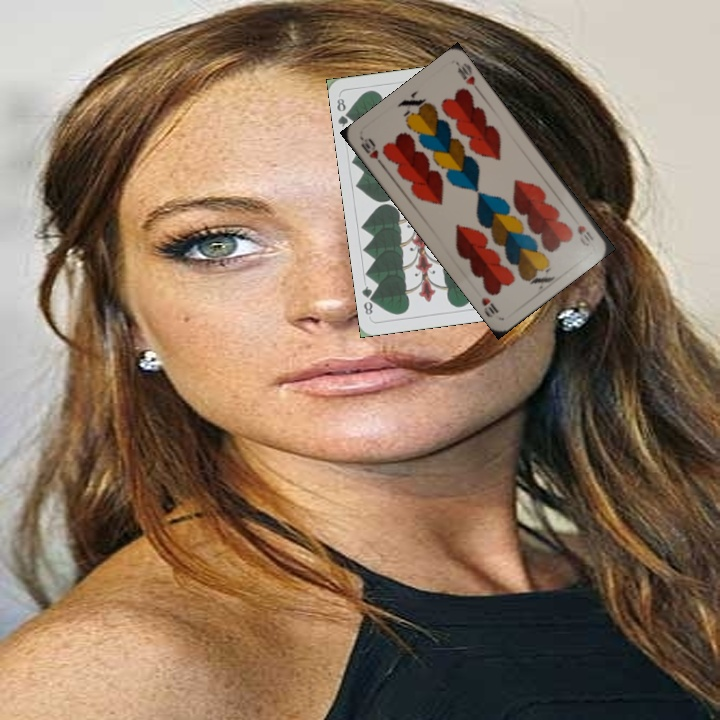G8: (333, 94, 355, 129)
H10: (357, 134, 386, 169), (573, 221, 596, 243)
